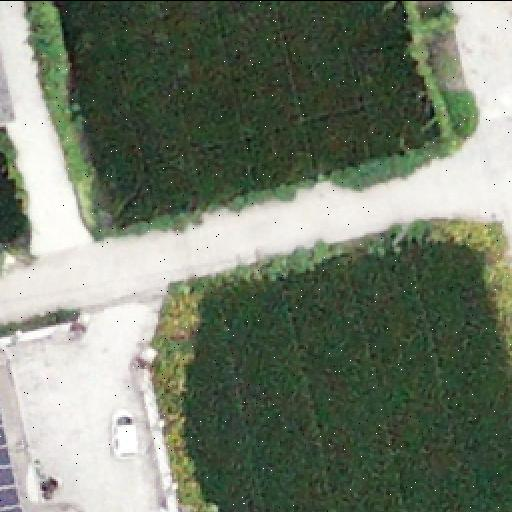solar-panel: (1, 417, 23, 511)
